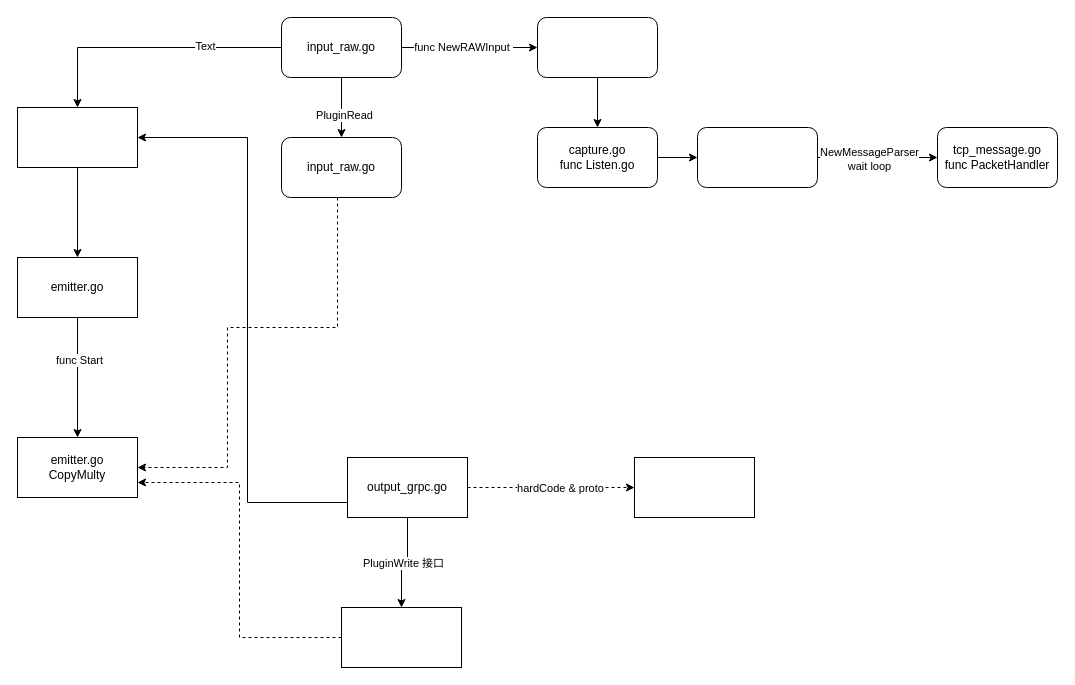
Some shapes in this 1075 by 685 pixel diagram are drawn without their labels. Here are the shapes that lost their labels. From the top down, the box of each, then its label:
(536, 16, 658, 78): inupt_raw.go func listen
(16, 106, 138, 168): gor.go main.go
(696, 126, 818, 188): capture.go func readHandler
(634, 456, 754, 518): grpc client for target server
